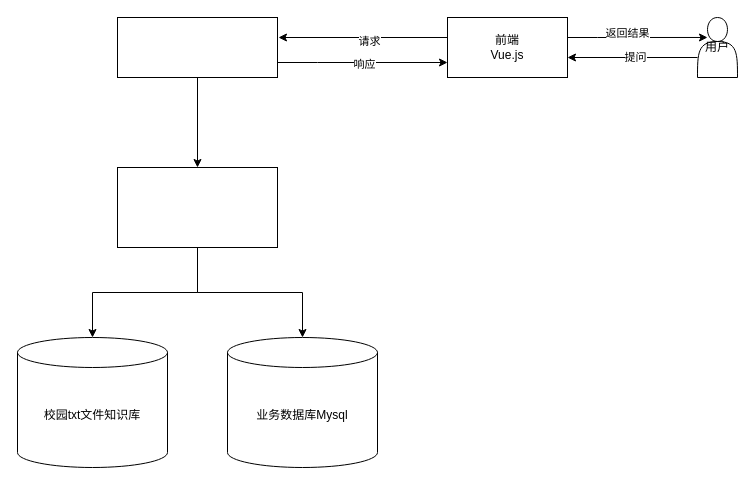
This 755x485 diagram has some shape labels left out. Each missing label, with the centre of its shape:
"ollama 本地部署qwen3:0.6b" goes at point 197,207.
"后端 Spring Boot3+Mybatis plus" goes at point 197,47.
